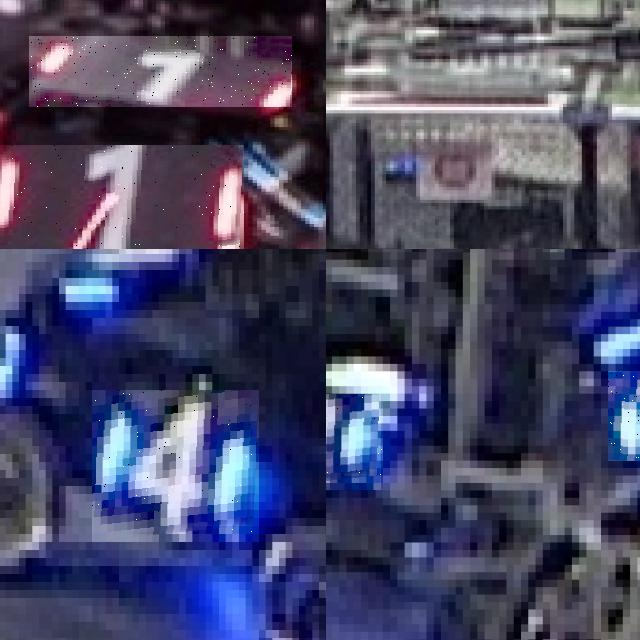B2: (326, 393, 382, 490), (608, 371, 640, 460)
B4: (92, 390, 259, 542)
R1: (0, 145, 243, 249), (29, 36, 292, 107)
